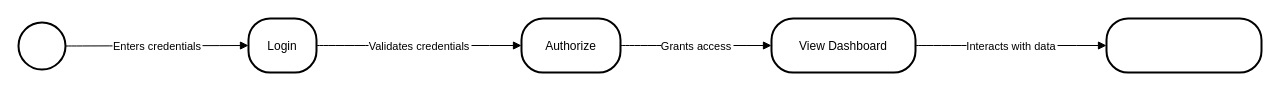
Image size: 1279x90. Some labels were removed from this diagram. Here are the shapes that lost their labels. From the top down, the centre of each, then its label:
At pixel 41 45: "User".
At pixel 1183 45: "Generate Reports".
